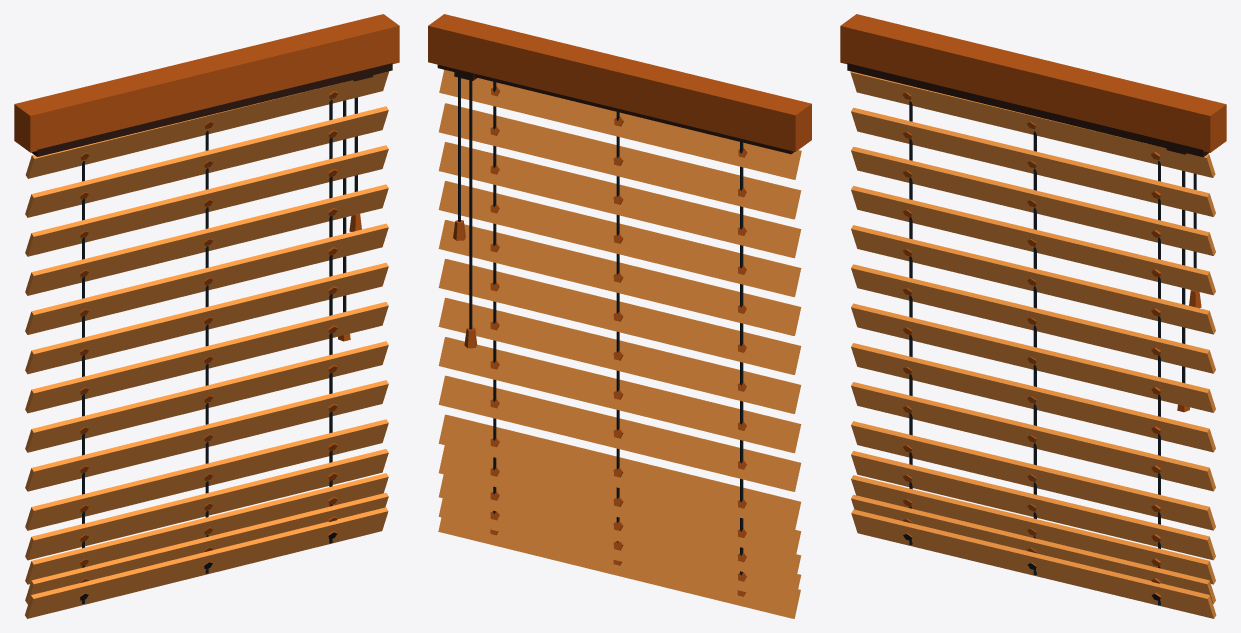
The model's file is blinds.glb.
3 views of the same model, side by side, from view 1: azimuth 30°, elevation 25°; view 2: azimuth 150°, elevation 25°; view 3: azimuth 330°, elevation 25° (orthographic).
Parts seen in each view (by area): view 1: blinds; view 2: blinds; view 3: blinds.
Part boxes in pixels (x1,y1,x2,y2): blinds: [14, 14, 399, 618]; blinds: [428, 14, 811, 618]; blinds: [840, 14, 1226, 618].
Bounding box in the file's own units: 0.9812 × 1.3 × 0.0811.
